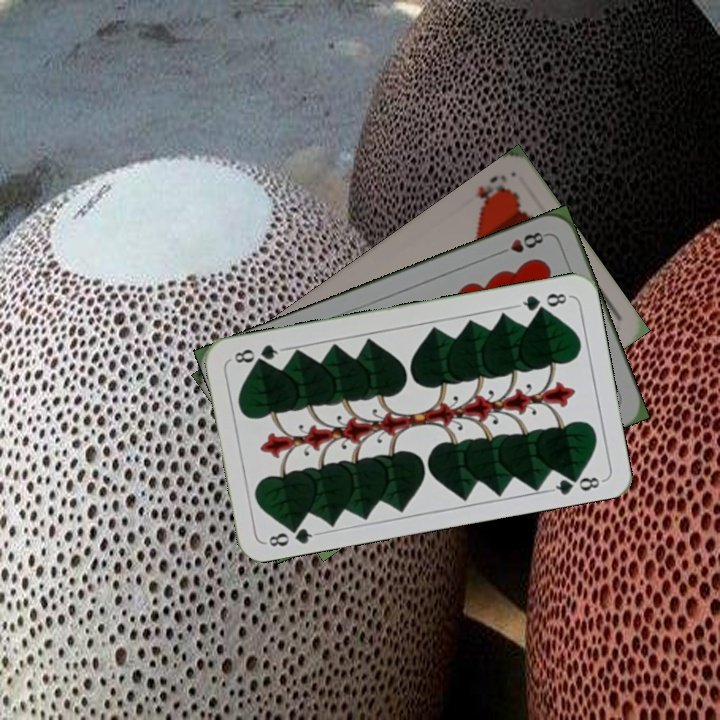G8: (262, 519, 321, 550), (514, 289, 573, 315)
H8: (493, 227, 550, 258)
HO: (473, 170, 512, 212)
